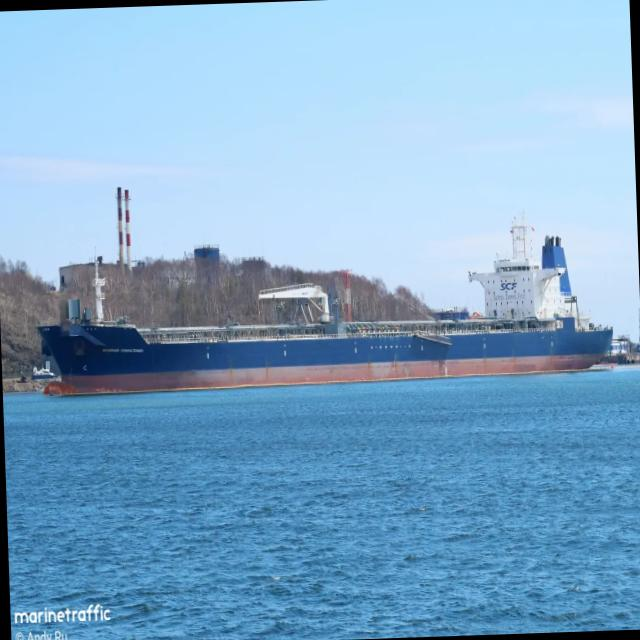Tanker: (38, 214, 612, 394)
